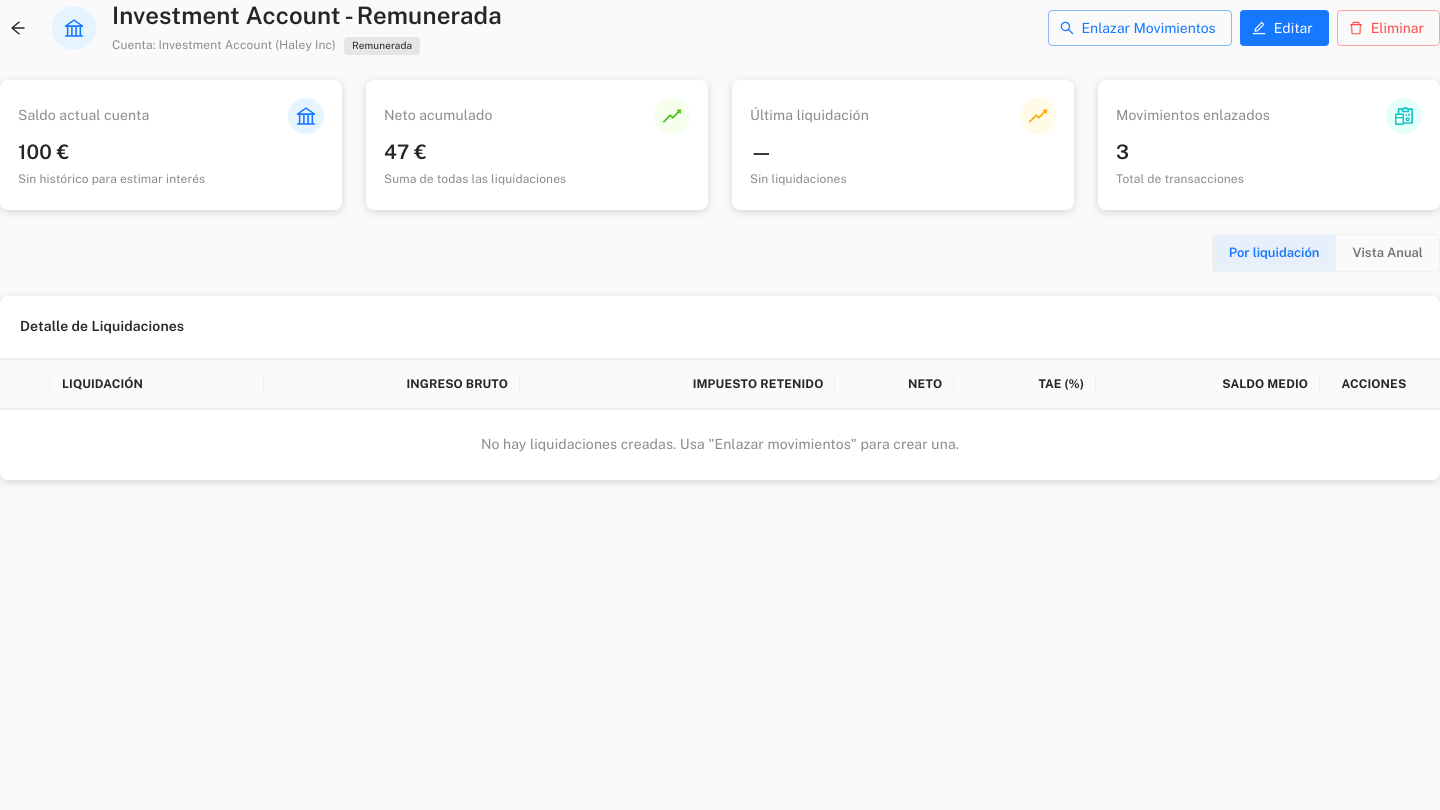
Test: YieldDetail › edit yield › closes the form after a successful edit
Click the button "Editar".
click(1284, 28)  # box x1=1240 y1=10 x2=1329 y2=46
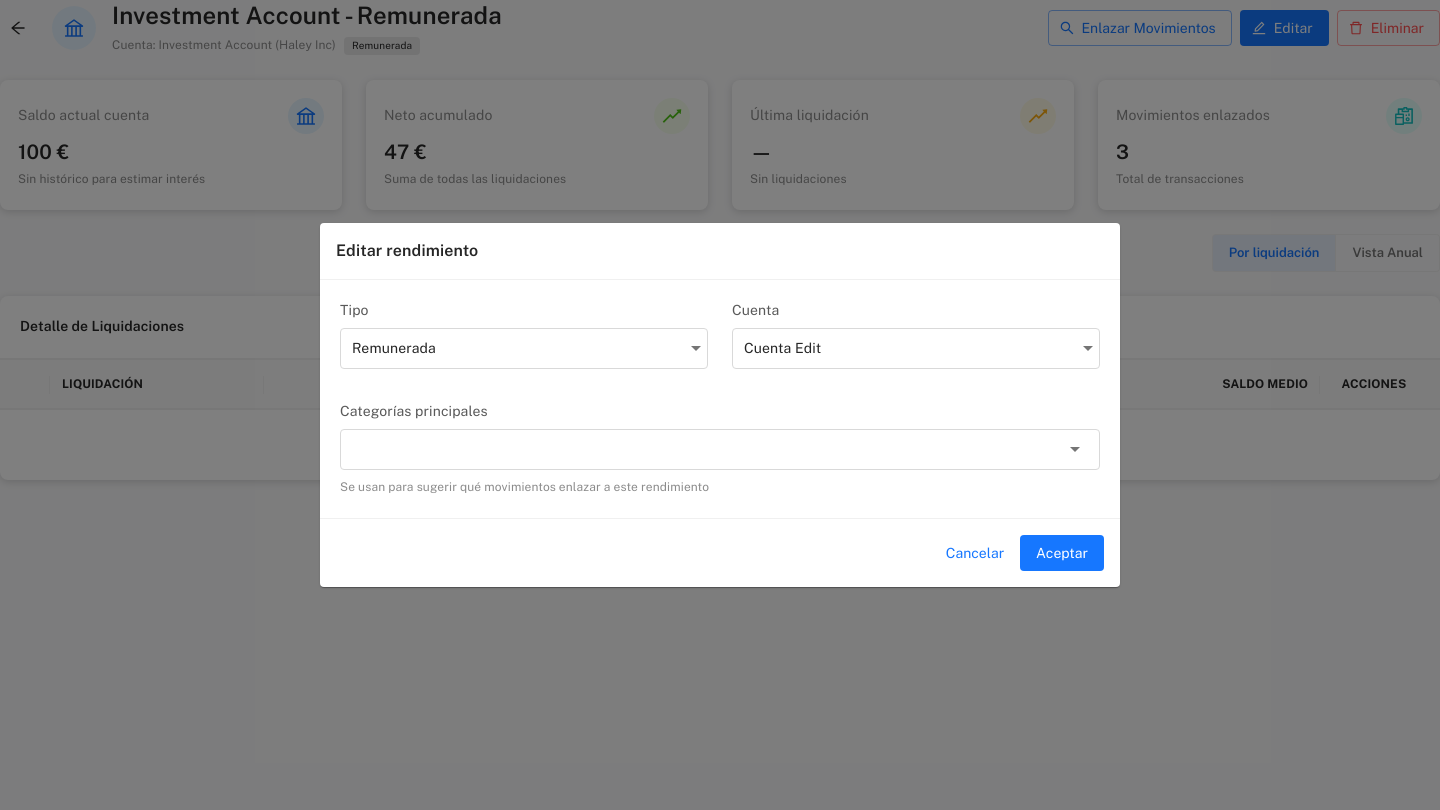
expect the text "Editar rendimiento" is shown: met, box x1=336 y1=240 x2=478 y2=260
Click the button "Aceptar".
click(1062, 553)  # box x1=1020 y1=535 x2=1104 y2=572
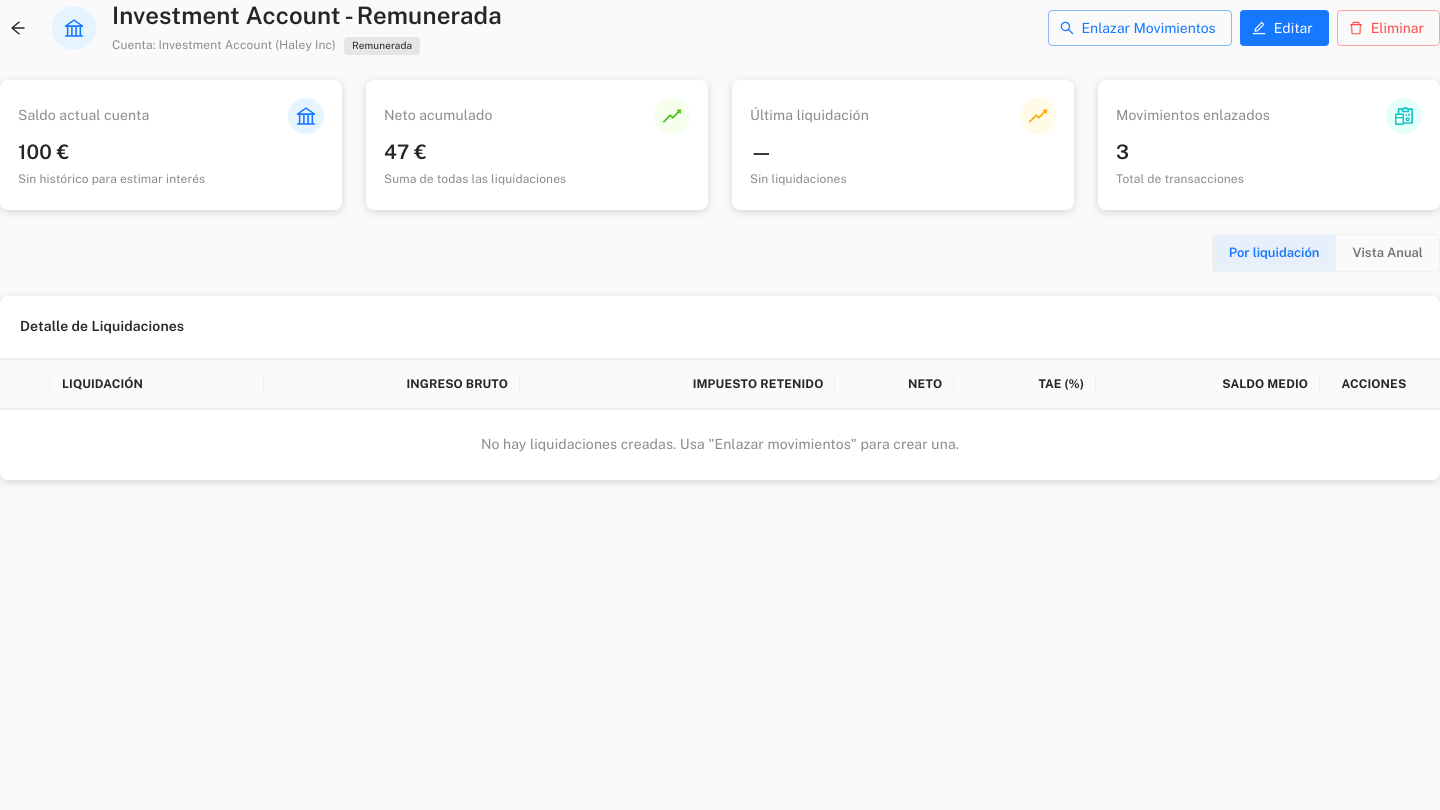
expect the text "Editar rendimiento" is gone: met
